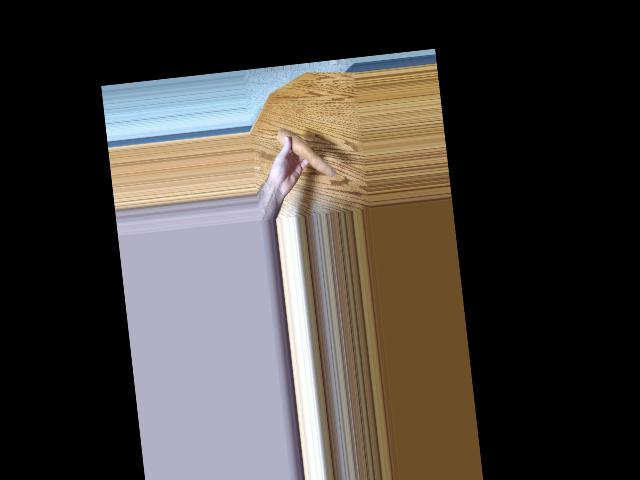sweet_potato: (275, 125, 335, 181)
